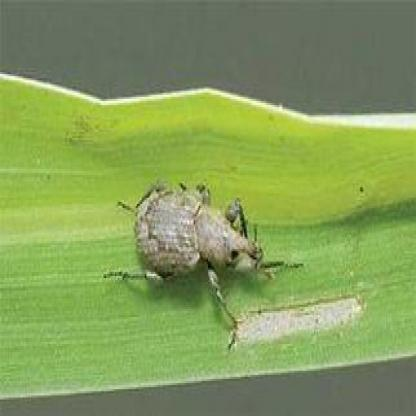rice-bug: (117, 175, 265, 336)
